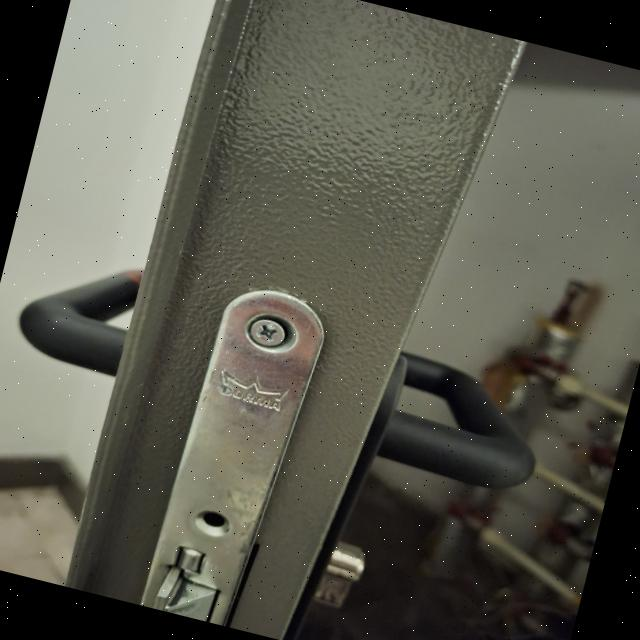Phillips: (242, 314, 292, 353)
